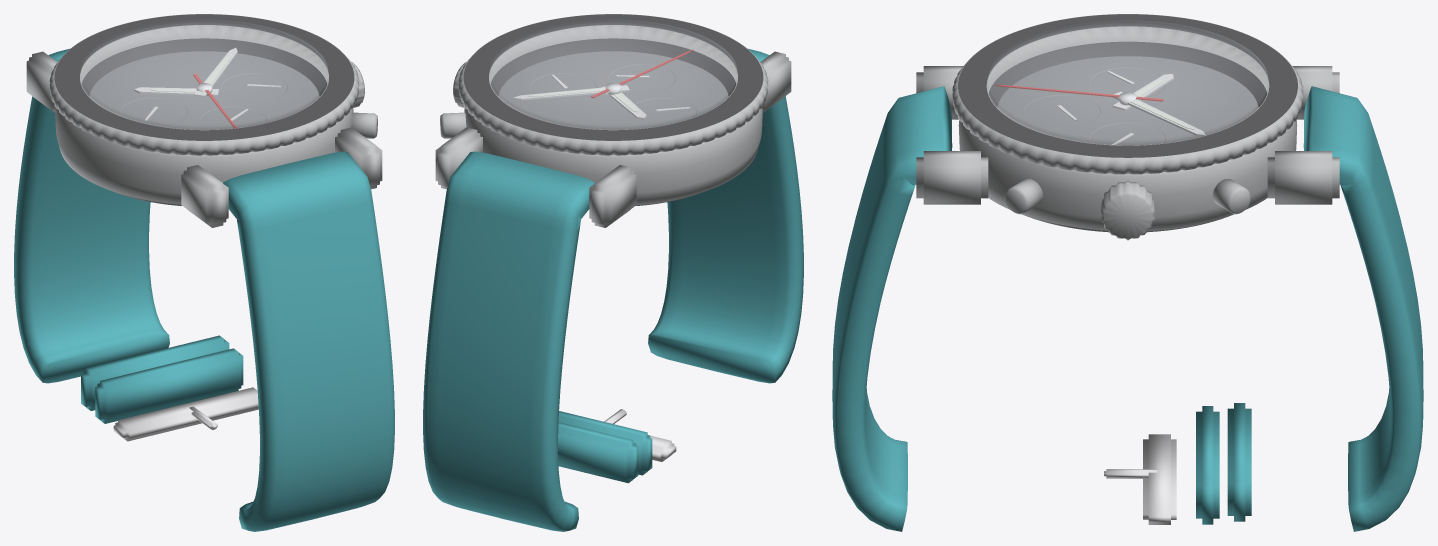
File: watch.glb
3 views of the same model, side by side, from view 1: azimuth 30°, elevation 25°; view 2: azimuth 150°, elevation 25°; view 3: azimuth 270°, elevation 25° (orthographic). The views are drawn at different scales.
Visible parts, largest first — view 1: strap_bottom, strap_top, crystal, dial, case_middle, bezel_top, bezel, strap_keeper_0, rehaut, buckle_frame, strap_keeper_1, lug_lb (+3 smaller); view 2: strap_top, strap_bottom, crystal, dial, case_middle, bezel_top, bezel, rehaut, strap_keeper_1, lug_lt, lug_rt, strap_keeper_0 (+4 smaller); view 3: crystal, strap_top, strap_bottom, dial, case_middle, bezel_top, bezel, rehaut, lug_rb, lug_rt, buckle_frame, strap_keeper_1 (+6 smaller).
Boxes of the visible parts, x1,y1,x2,y2 form: strap_bottom: (223,151,394,531); strap_top: (14,48,169,383); crystal: (81,20,327,129); dial: (89,51,319,129); case_middle: (55,38,353,204); bezel_top: (54,14,354,140); bezel: (49,14,359,155); strap_keeper_0: (95,348,243,423); rehaut: (81,38,327,96); buckle_frame: (113,387,258,441); strap_keeper_1: (81,335,229,410); lug_lb: (181,165,228,227); strap_top: (423,151,594,531); strap_bottom: (648,48,803,383); crystal: (490,20,736,129); dial: (498,51,728,129); case_middle: (464,38,762,204); bezel_top: (463,14,763,140); bezel: (458,14,768,155); rehaut: (490,38,736,96); strap_keeper_1: (558,422,638,483); lug_lt: (589,165,636,227); lug_rt: (435,127,482,189); strap_keeper_0: (558,411,652,475); crystal: (988,20,1267,145); strap_top: (1303,86,1423,531); strap_bottom: (832,86,952,531); dial: (997,56,1258,145); case_middle: (958,41,1297,230); bezel_top: (958,14,1297,157); bezel: (952,14,1303,174); rehaut: (988,41,1267,107); lug_rb: (916,151,988,204); lug_rt: (1267,151,1339,204); buckle_frame: (1143,434,1176,524); strap_keeper_1: (1227,403,1251,521).
Size of the model in its own units: 0.0466 by 0.0586 by 0.0741.
